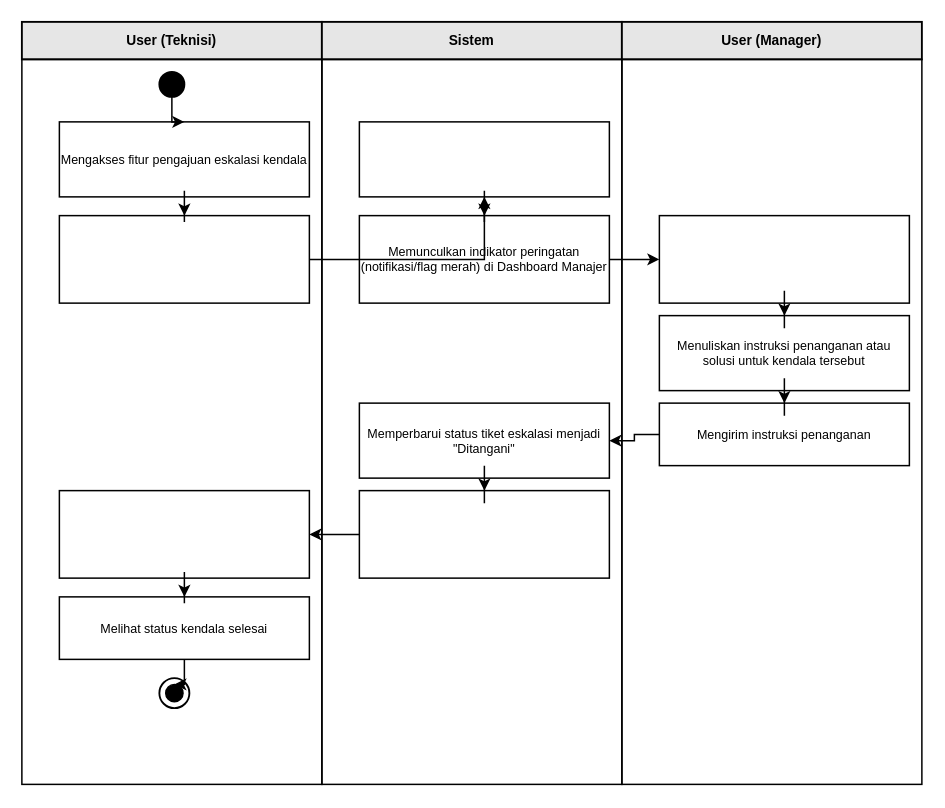
The diagram is 945 pixels wide and 808 high, and some of its shapes have lost their labels. Each missing label, with the centre of its shape:
Menerima dan memproses data eskalasi baru: the point at 484,158
Menerima notifikasi dan membaca instruksi penanganan dari Manajer: the point at 184,533
Menerima notifikasi dan membuka detail eskalasi yang diajukan oleh Teknisi: the point at 783,258
Meneruskan notifikasi berisi instruksi penanganan kembali ke Teknisi: the point at 484,533
Mengisi form detail kendala yang terjadi di lapangan dan menekan tombol kirim: the point at 184,258
